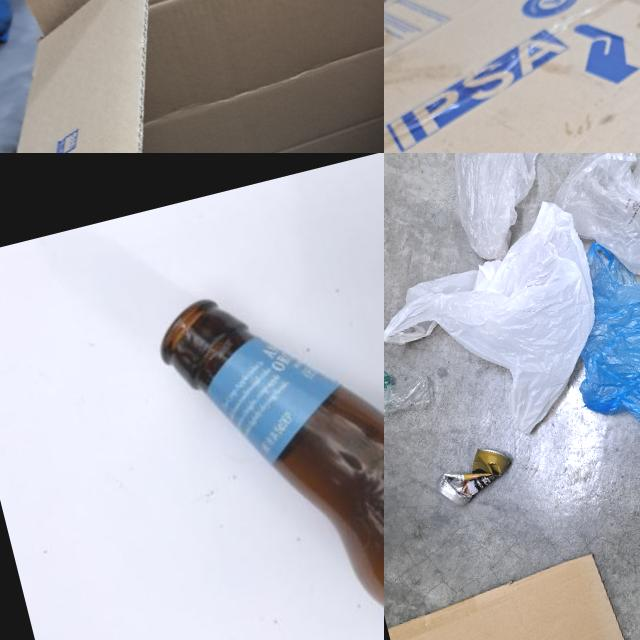garrafa de vidro: (150, 209, 384, 640)
garrafa plástica: (384, 341, 432, 425)
lata: (428, 440, 520, 511)
papelão: (0, 0, 384, 153), (384, 0, 640, 153), (384, 546, 631, 640)
sacola plástica: (384, 193, 626, 461), (544, 201, 640, 466), (431, 153, 607, 264), (547, 153, 640, 329)
